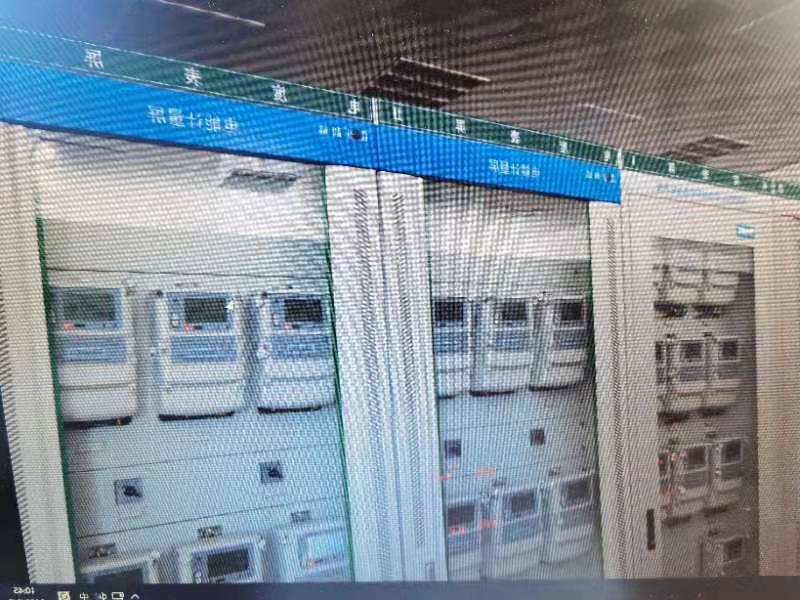digital: (42, 281, 135, 421), (158, 287, 244, 414), (259, 289, 336, 410), (486, 296, 534, 390), (491, 486, 541, 576), (283, 519, 348, 581), (176, 537, 260, 584), (549, 471, 591, 563), (546, 297, 587, 386), (431, 298, 468, 394), (445, 498, 478, 580), (712, 439, 746, 510), (77, 554, 154, 585), (675, 444, 706, 519), (672, 339, 703, 407), (667, 241, 699, 302), (705, 244, 736, 306), (711, 338, 738, 407), (709, 534, 745, 577), (655, 450, 669, 520), (647, 238, 661, 303), (654, 341, 666, 410)
